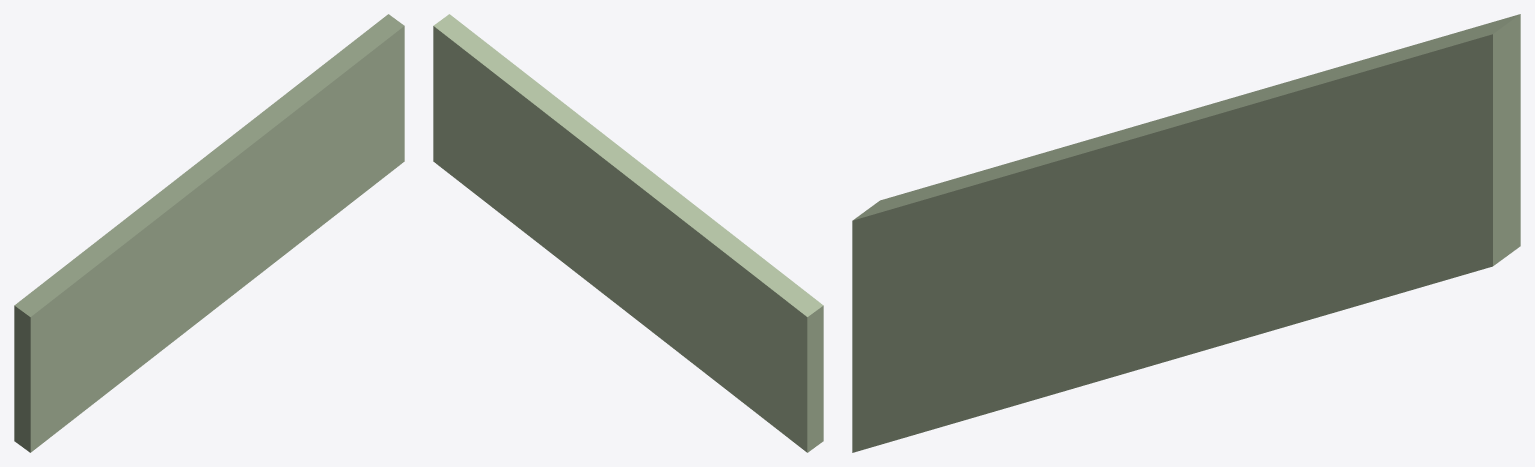
File: Stairs_Side_Collider.fbx
The picture shows the model from 3 angles, left to right: view 1: azimuth 30°, elevation 25°; view 2: azimuth 150°, elevation 25°; view 3: azimuth 330°, elevation 25°; orthographic projection. The views are drawn at different scales.
Parts seen in each view (by area): view 1: Stairs_Side_Collider; view 2: Stairs_Side_Collider; view 3: Stairs_Side_Collider.
Boxes of the visible parts, <box> form: Stairs_Side_Collider: <box>14,14,404,452</box>; Stairs_Side_Collider: <box>433,14,823,452</box>; Stairs_Side_Collider: <box>852,14,1520,452</box>.
Bounding box in the file's own units: 314 × 270 × 23.47.
